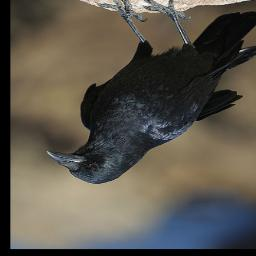Crow: (43, 0, 255, 185)
